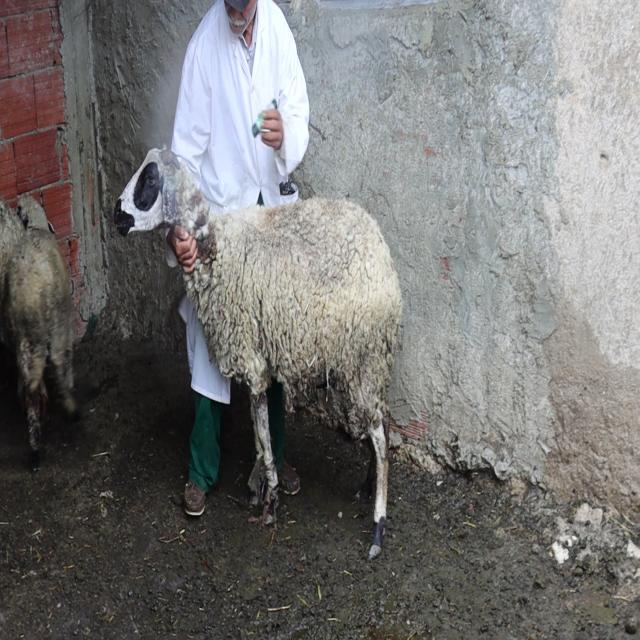Score_3: (114, 149, 402, 557)
